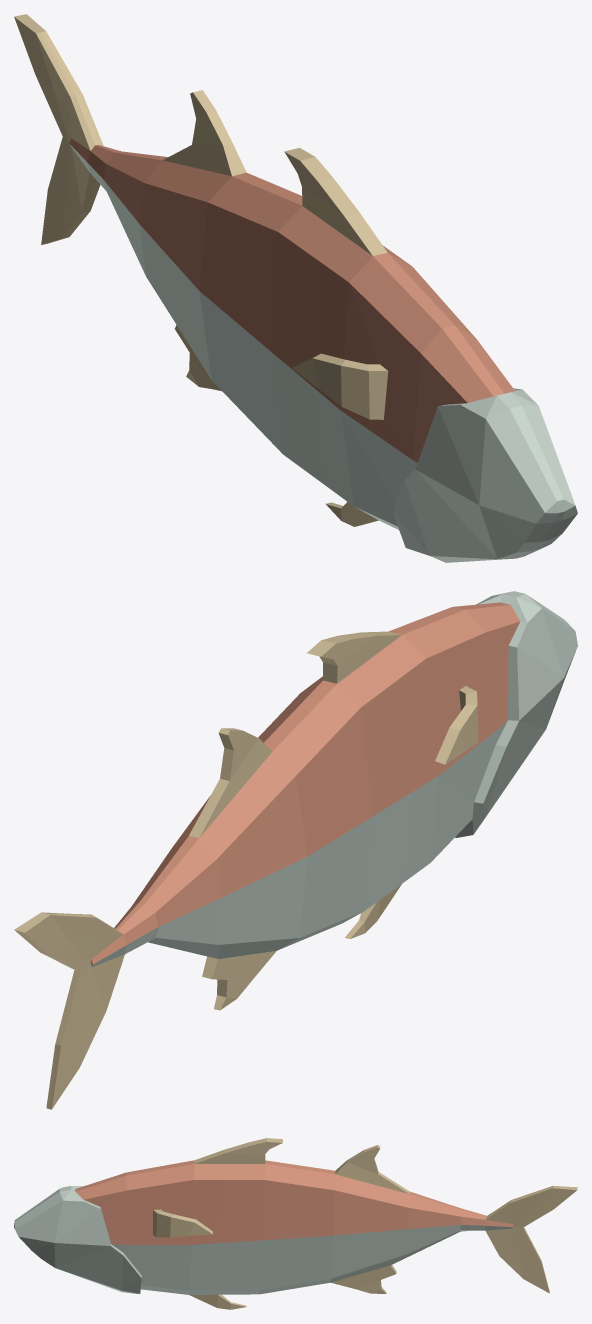
Rendered from fish1.glb.
3 views of the same model, one above another, from view 1: azimuth 30°, elevation 25°; view 2: azimuth 150°, elevation 25°; view 3: azimuth 270°, elevation 25° (orthographic). The views are drawn at different scales.
Parts seen in each view (by area): view 1: Fish_Cube; view 2: Fish_Cube; view 3: Fish_Cube.
Boxes of the visible parts, x1,y1,x2,y2 form: Fish_Cube: (14, 14, 577, 562); Fish_Cube: (14, 591, 577, 1109); Fish_Cube: (14, 1138, 577, 1309).
Size of the model in its own units: 0.4657 by 1.06 by 3.2.
